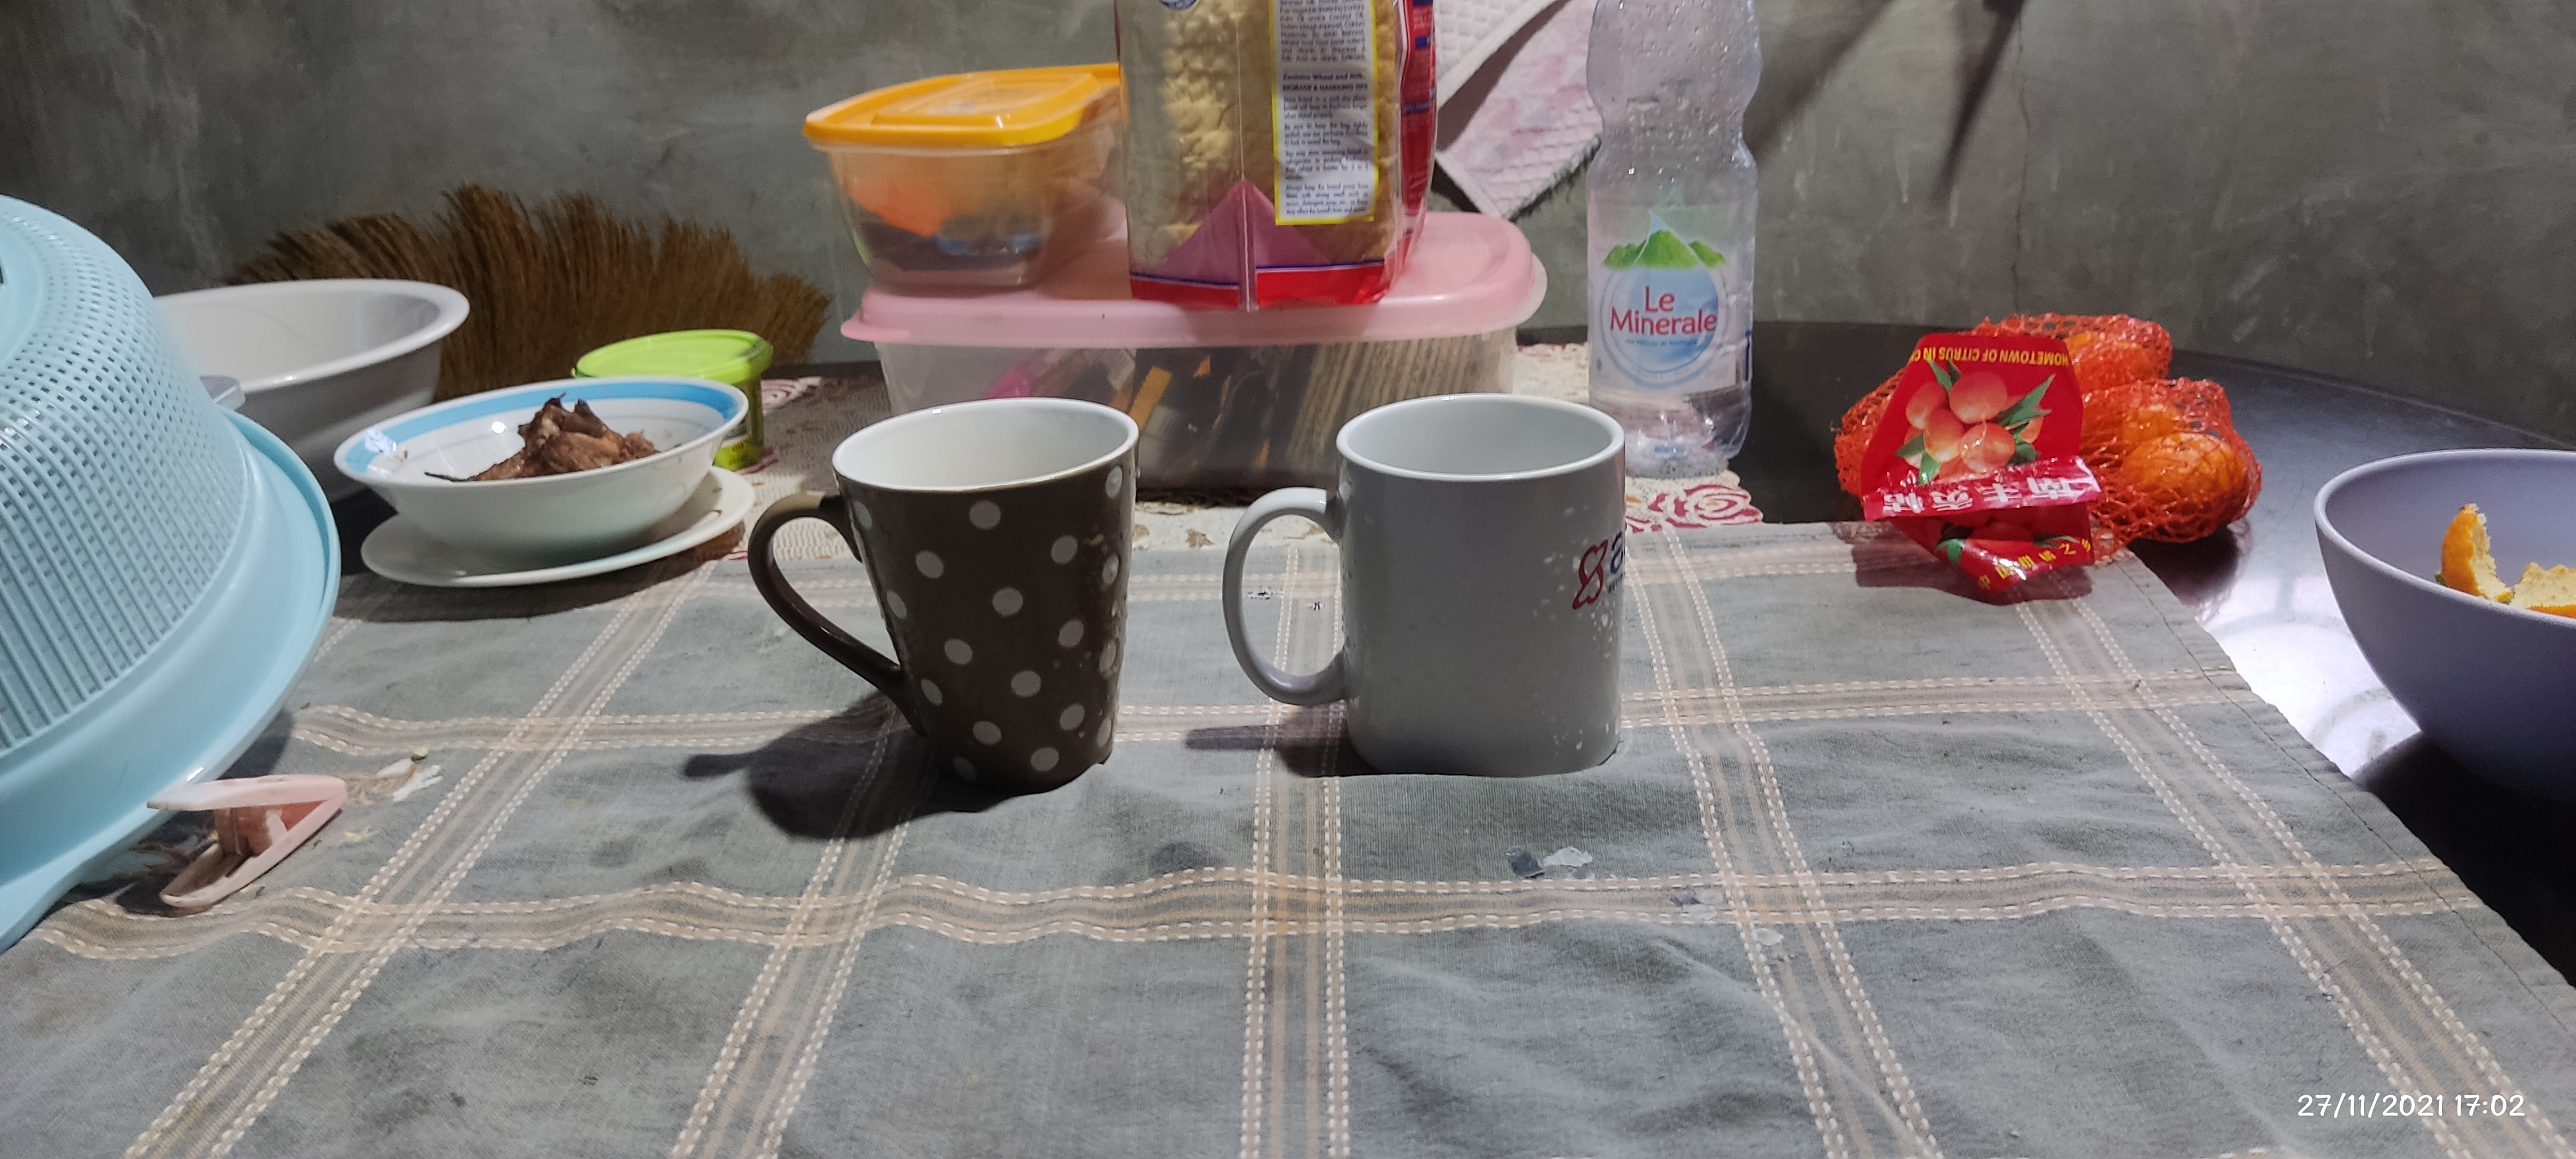mug: (1234, 391, 1625, 770), (757, 399, 1143, 775)
